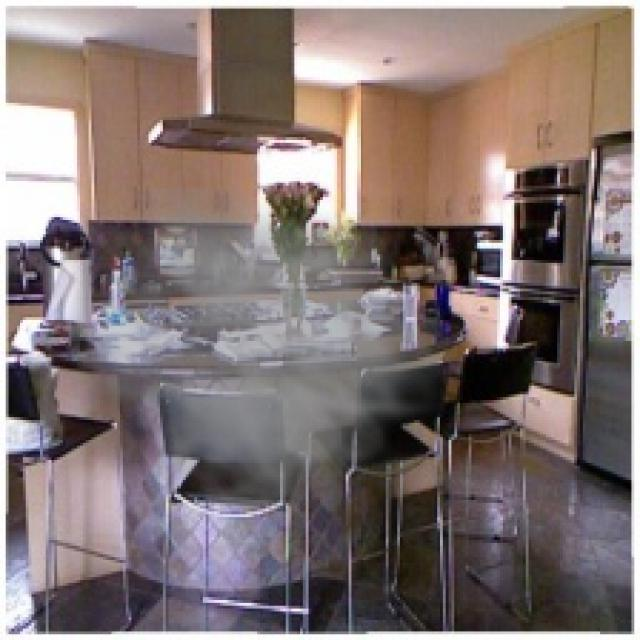Smoke: (51, 188, 468, 552)
